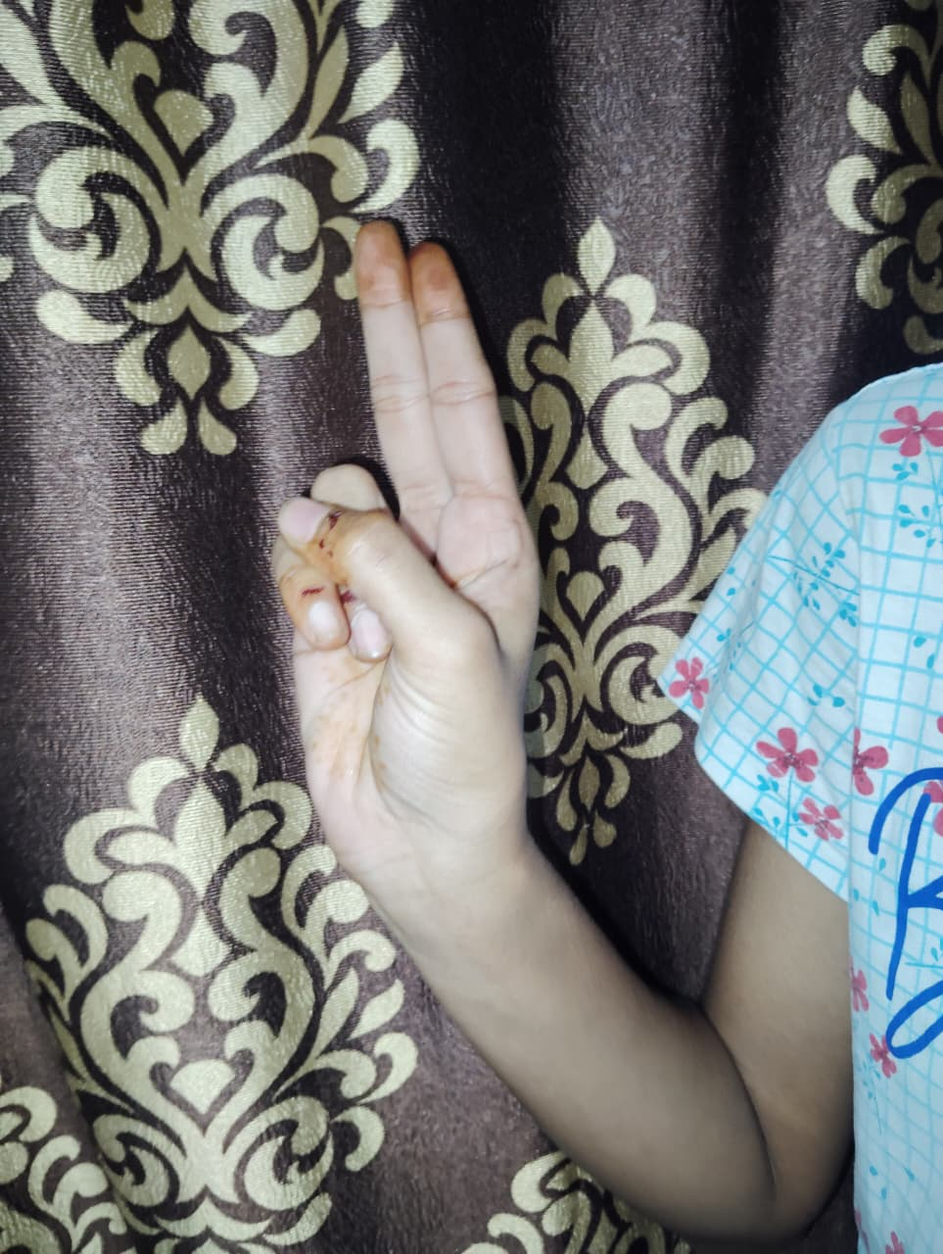U: (270, 220, 537, 889)
